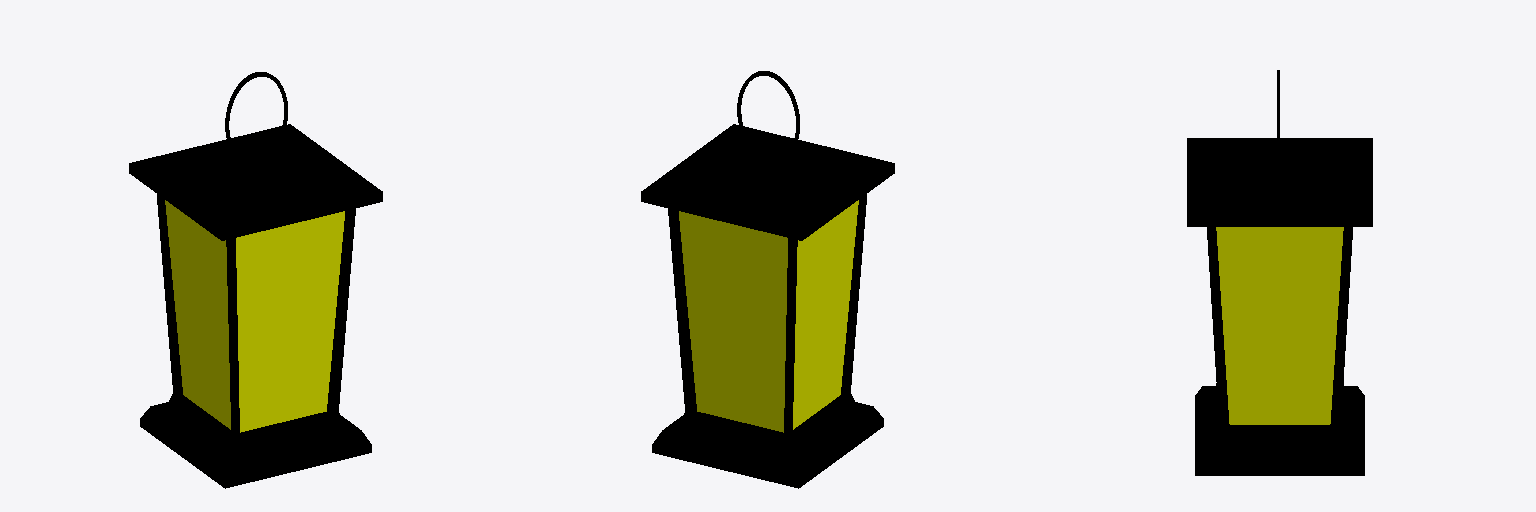
3 renders of one model, left to right at view 1: azimuth 30°, elevation 25°; view 2: azimuth 150°, elevation 25°; view 3: azimuth 270°, elevation 25°, orthographic.
Parts seen in each view (by area): view 1: Lantern_Plane.005; view 2: Lantern_Plane.005; view 3: Lantern_Plane.005.
Part boxes in pixels (bbox=[...]): Lantern_Plane.005: bbox=[129, 72, 382, 488]; Lantern_Plane.005: bbox=[641, 71, 894, 488]; Lantern_Plane.005: bbox=[1187, 70, 1372, 475].
Size of the model in its own units: 0.153 by 0.3328 by 0.153.
2 materials, 2 textured.